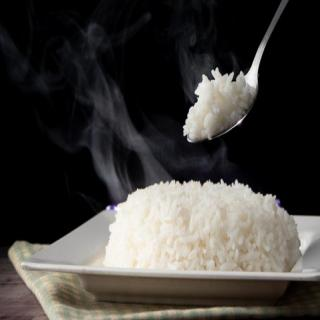Nasi: (103, 179, 303, 273), (184, 66, 257, 143)
